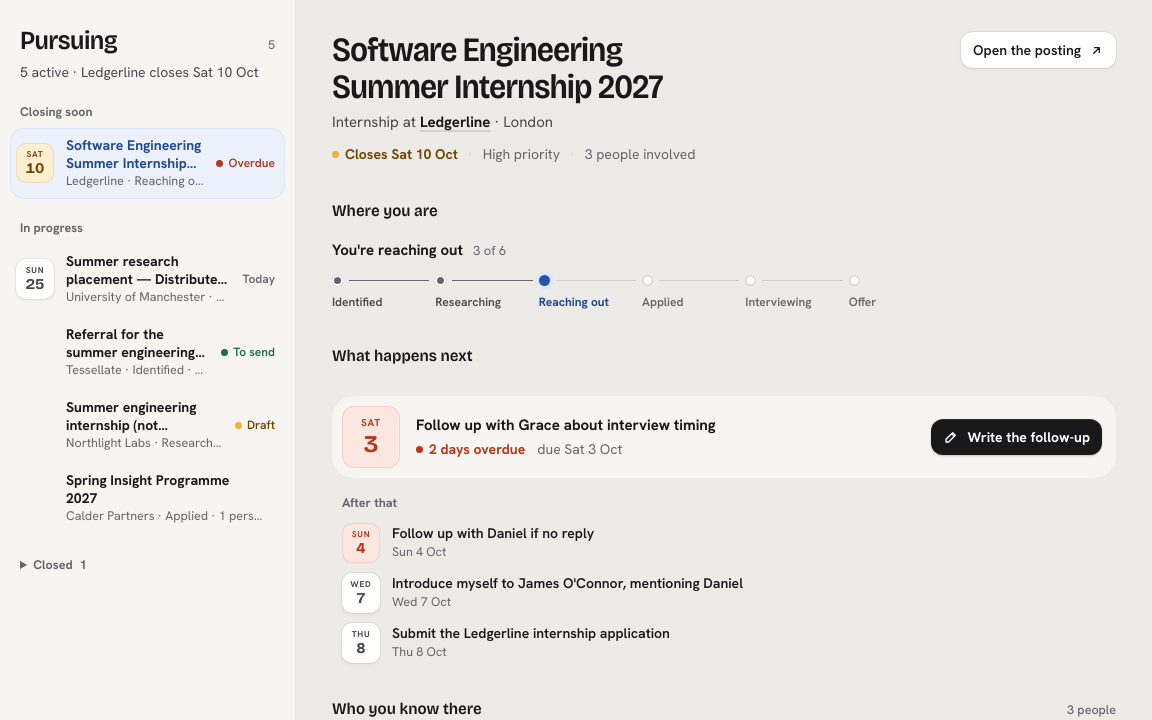
Test: production Pursuing — the opportunity in the URL › selecting an opportunity puts its id in the URL, replacing the entry
The width and height of the screenshot is (1152, 720).
Click the 4th button at (148, 425), box top-left (10, 390), bottom-right (285, 461)
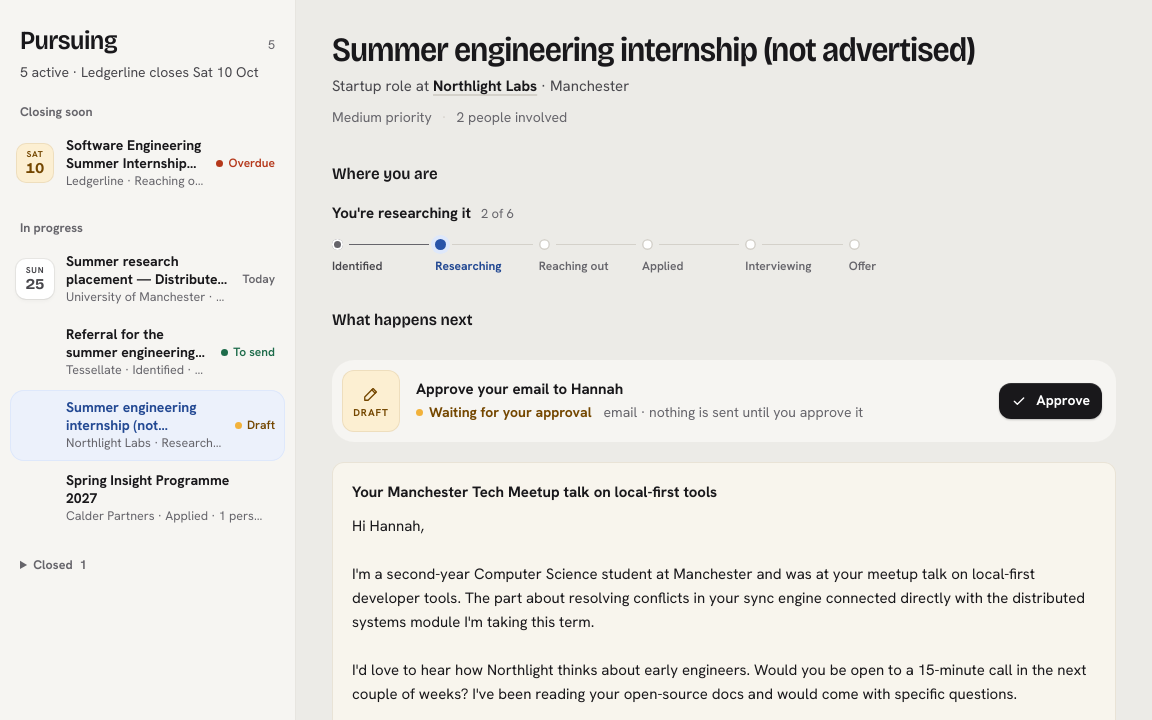
Expected: the heading "Summer engineering internship (not advertised)" is shown, top-left (332, 29), bottom-right (975, 70)
